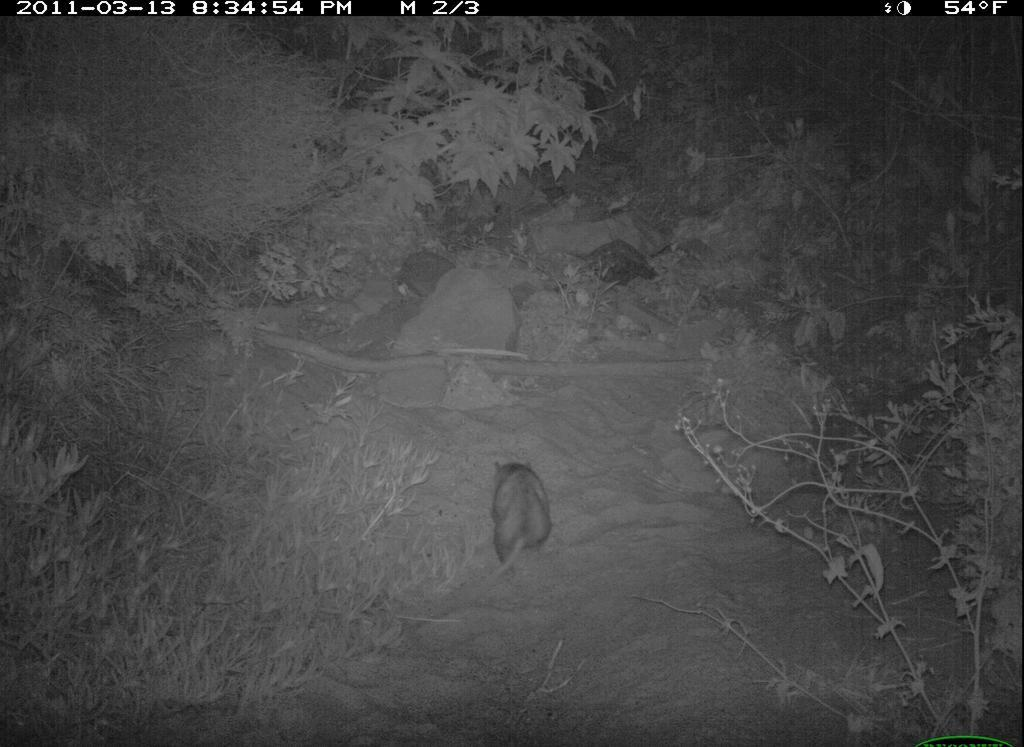opossum: (466, 460, 556, 600)
